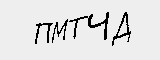Д: (111, 10, 134, 45)
М: (51, 19, 68, 43)
П: (32, 20, 52, 46)
Т: (69, 14, 86, 41)
Ч: (86, 11, 111, 41)
